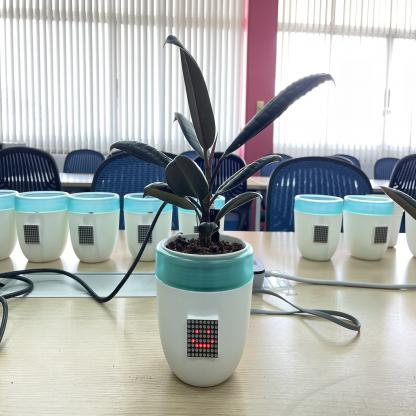Rubber: (106, 34, 338, 235)
